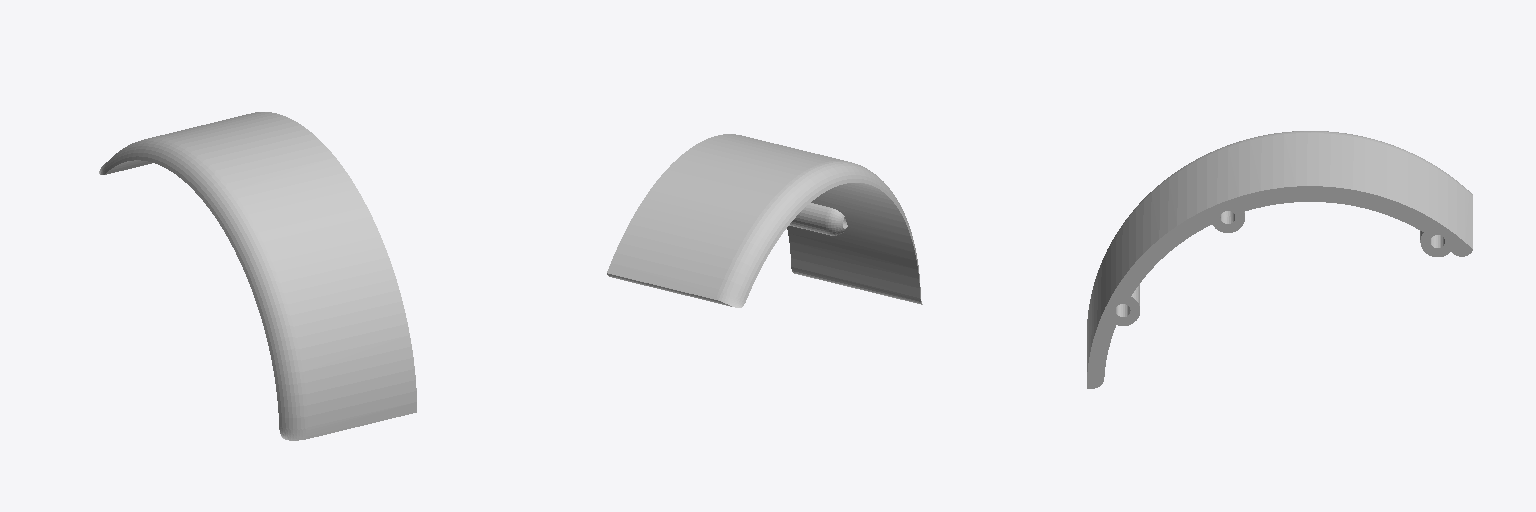
File: spoiler_left.obj
The picture shows the model from 3 angles: view 1: azimuth 30°, elevation 25°; view 2: azimuth 150°, elevation 25°; view 3: azimuth 270°, elevation 25°; orthographic projection.
Visible parts, largest first — view 1: Body1; view 2: Body1; view 3: Body1.
Boxes of the visible parts, box(x1,y1,x2,y2) form: Body1: box(99, 112, 416, 440); Body1: box(607, 134, 922, 307); Body1: box(1087, 131, 1472, 388).
Size of the model in its own units: 30 by 45 by 77.75.